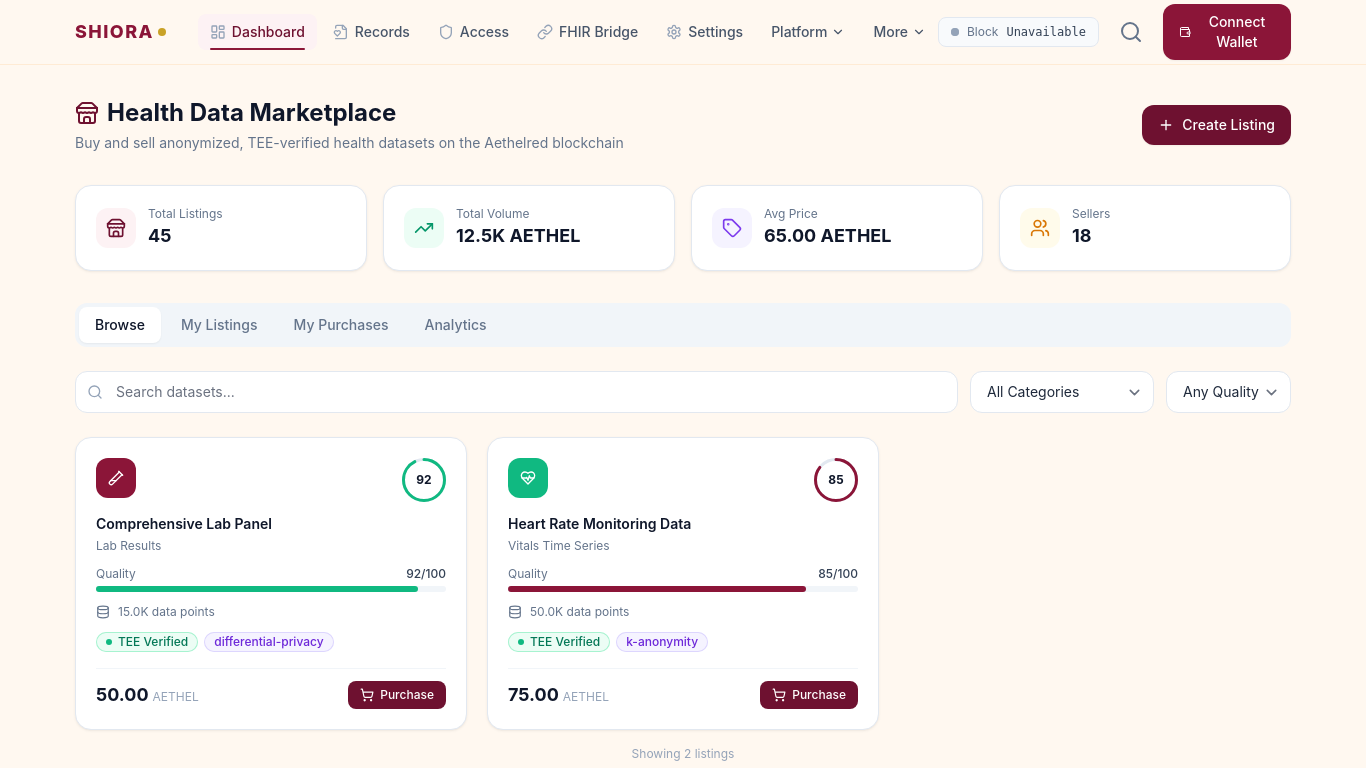
Scenario: MarketplacePage › switches to My Listings tab and shows listings
Click the tab "My Listings" at (219, 325), box [165, 307, 274, 343]
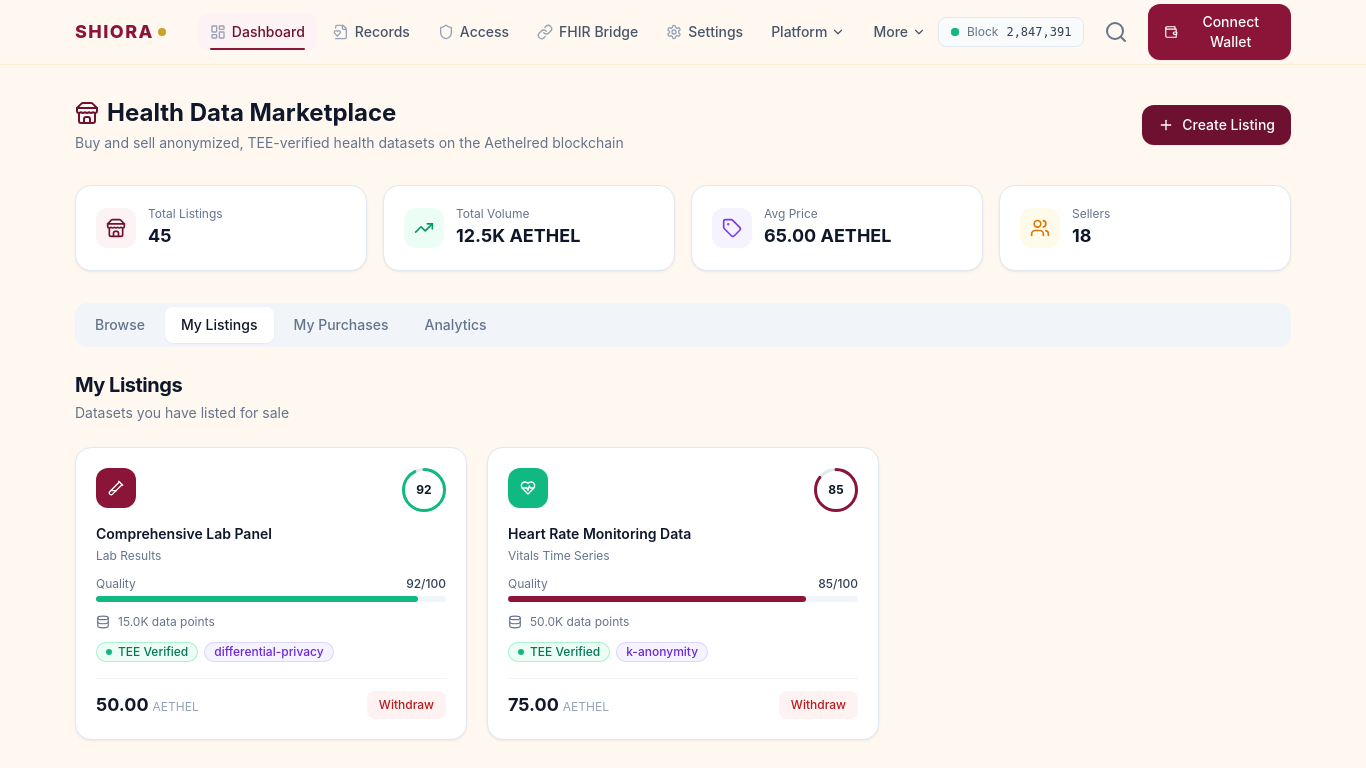
expect the text "Datasets you have listed for sale" is shown: met, box [75, 403, 289, 423]
